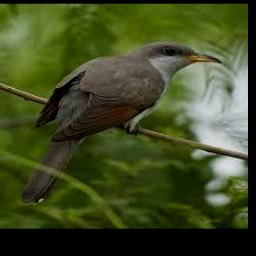Cuckoo: (21, 41, 220, 205)
